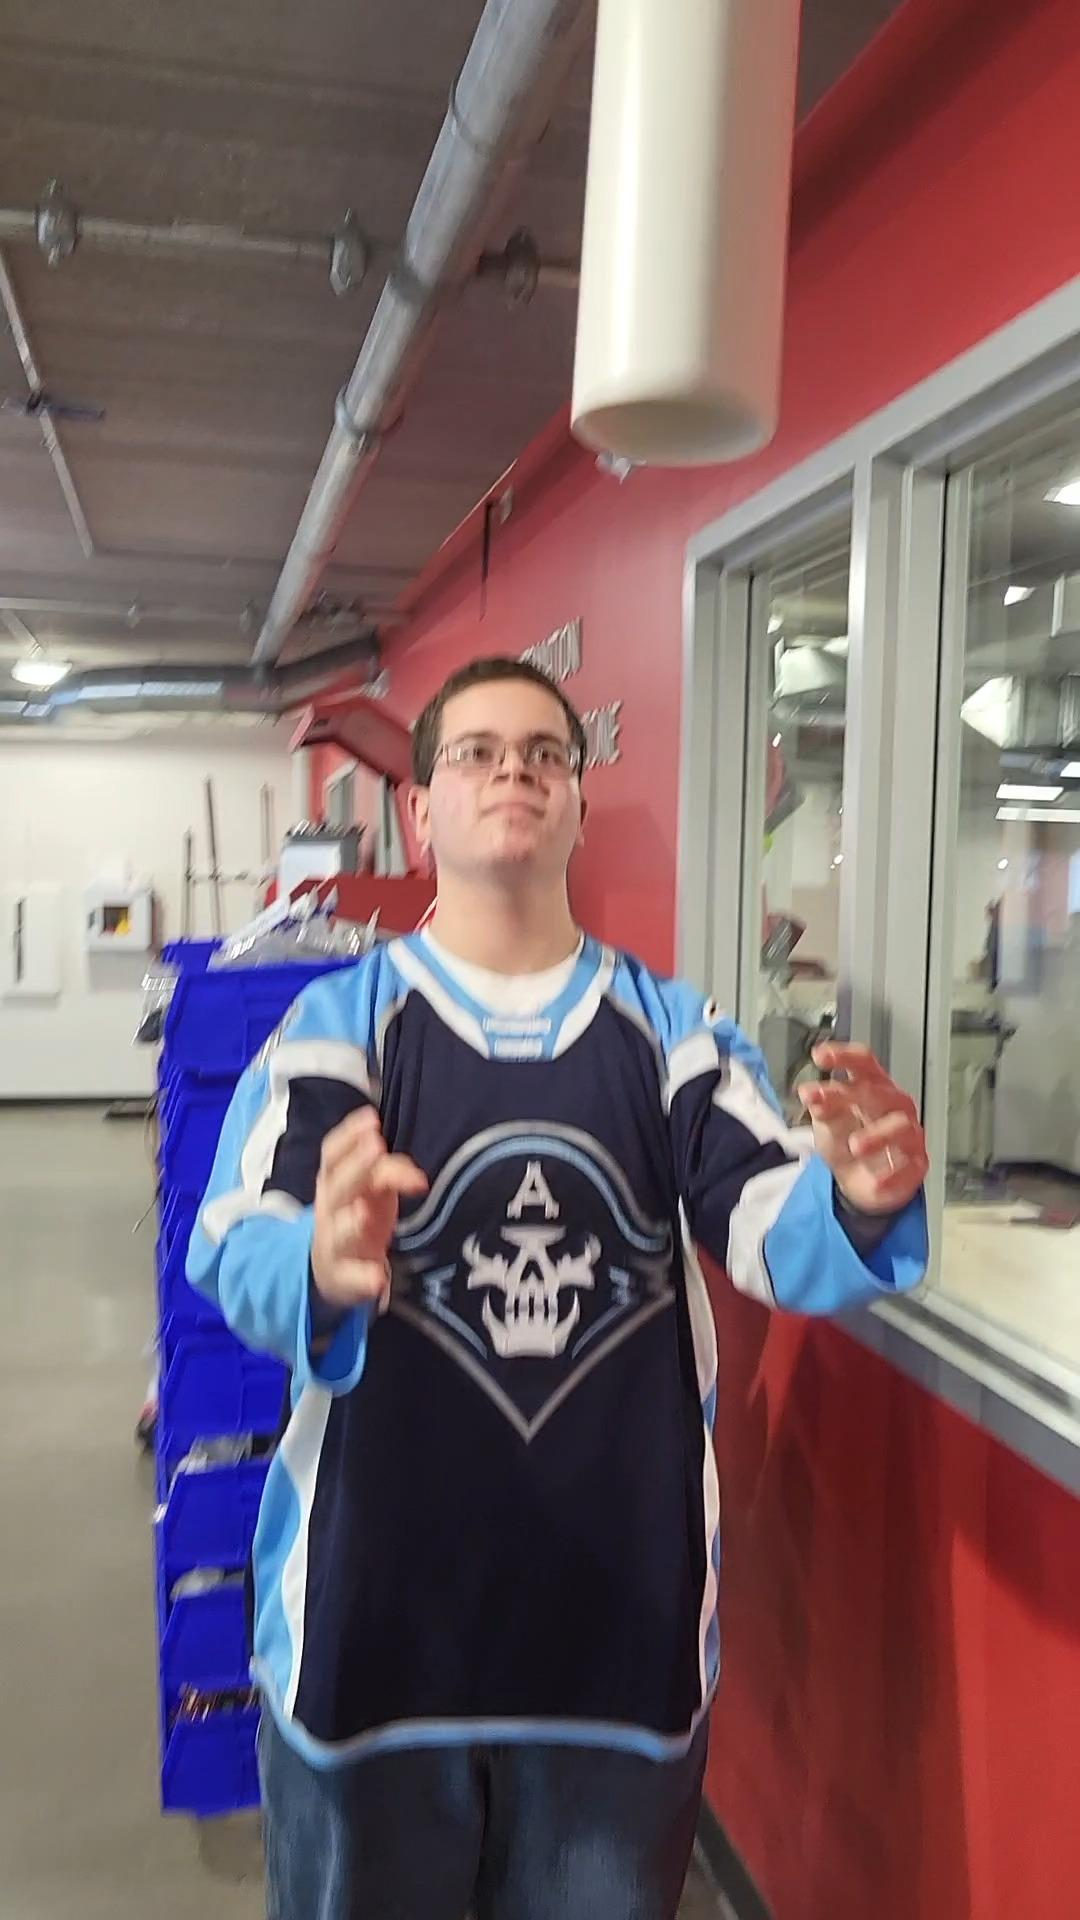coral: (567, 0, 816, 469)
